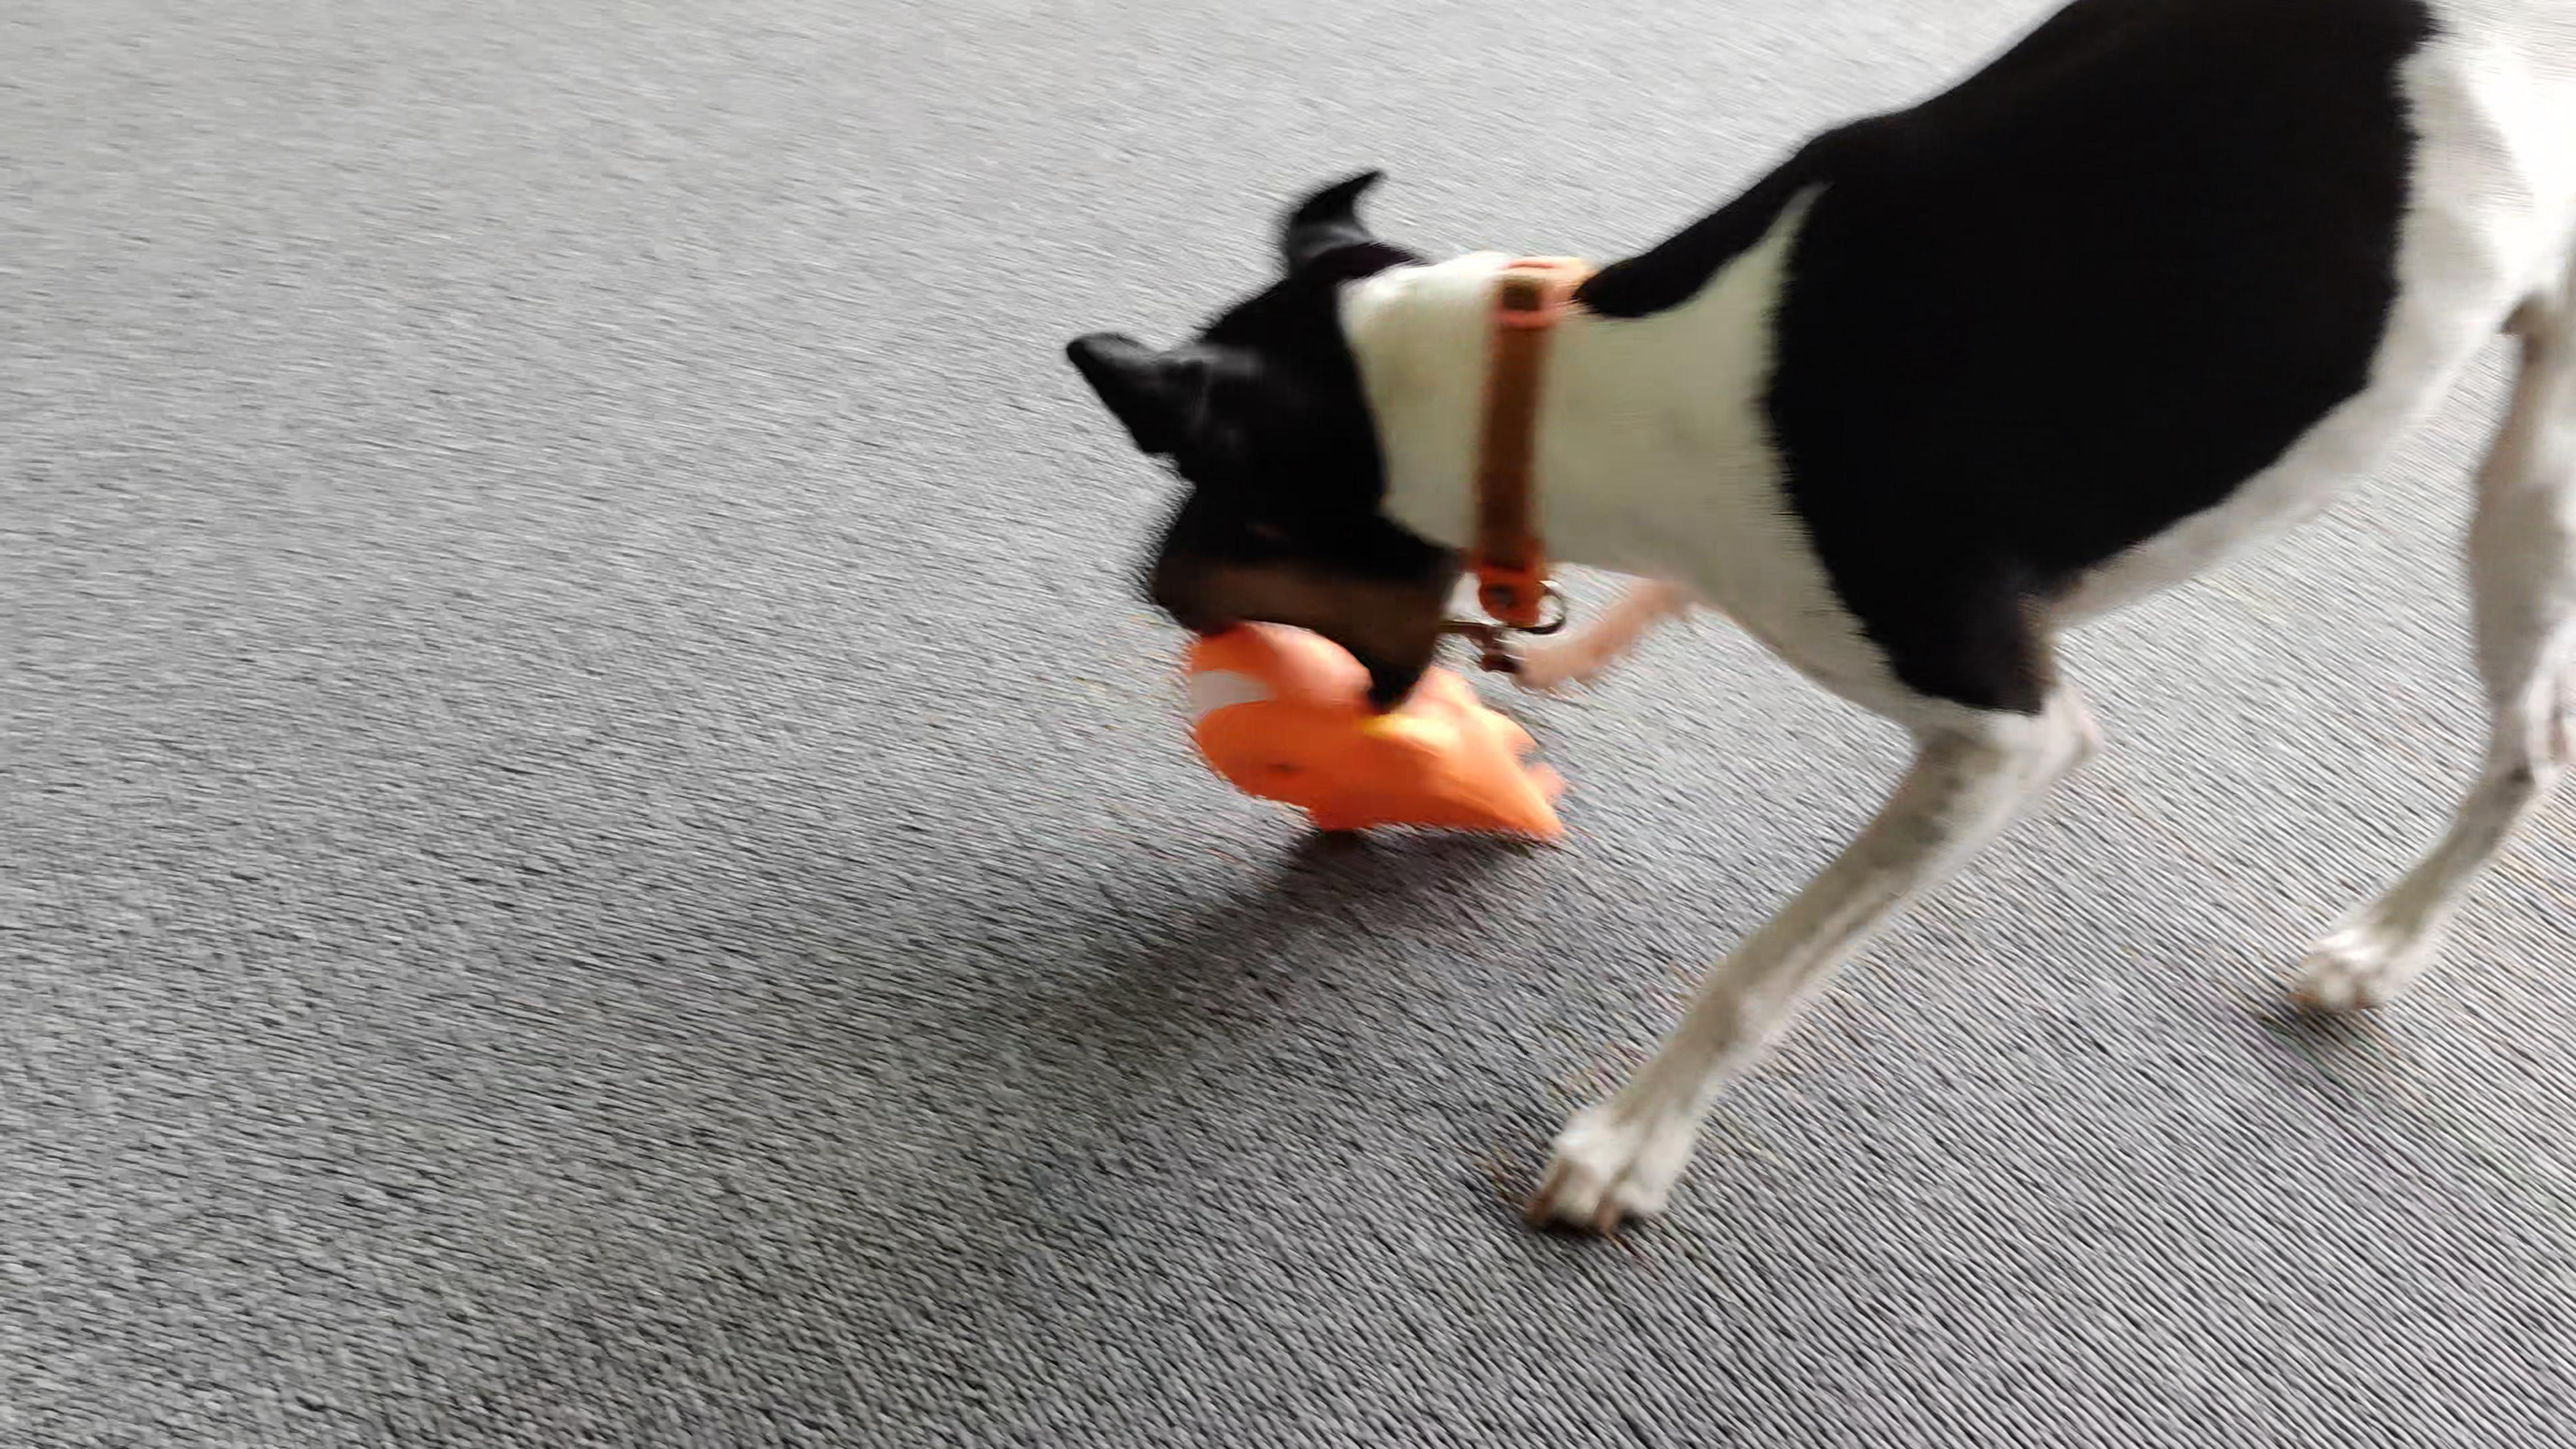Dog: (1058, 0, 2576, 1249)
